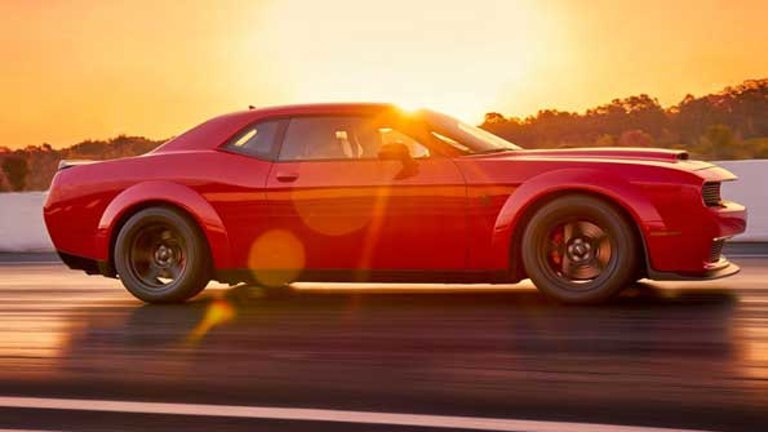car: (39, 98, 746, 308)
